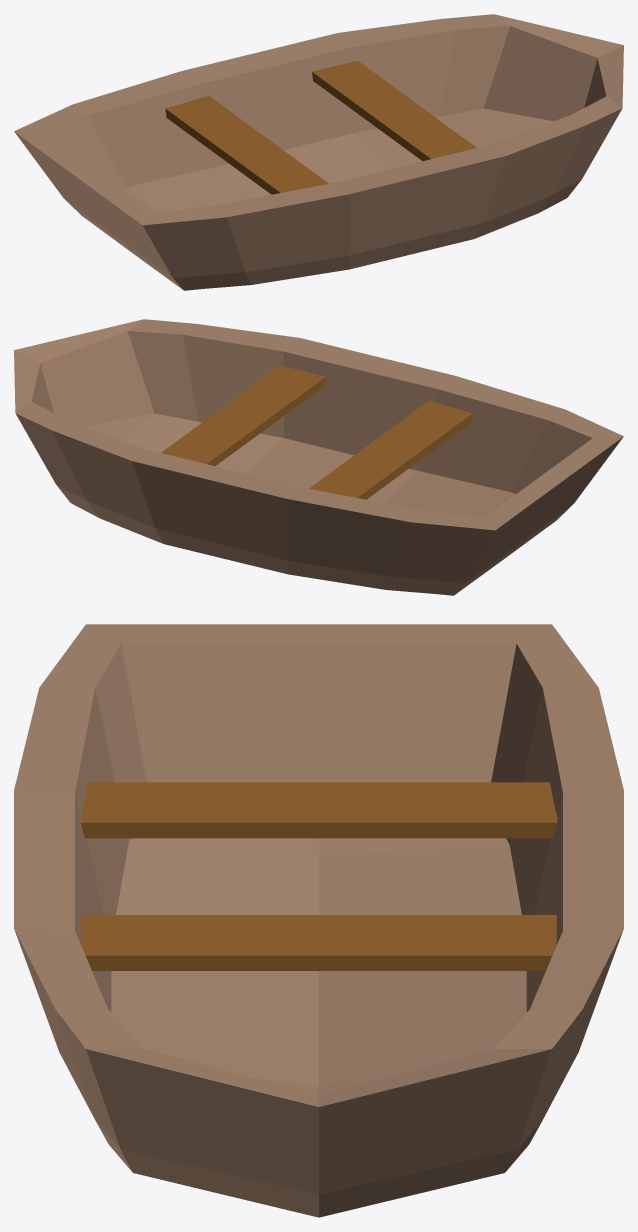
The model's file is Boat.fbx.
3 renders of one model, top to bottom at view 1: azimuth 30°, elevation 25°; view 2: azimuth 150°, elevation 25°; view 3: azimuth 270°, elevation 25°, orthographic. The views are drawn at different scales.
Visible parts, largest first — view 1: Boat; view 2: Boat; view 3: Boat.
Part boxes in pixels (x1=…): Boat: x1=14, y1=14, x2=623, y2=290; Boat: x1=14, y1=319, x2=623, y2=595; Boat: x1=14, y1=624, x2=623, y2=1217.
Size of the model in its own units: 14.71 by 2.85 by 7.85.
